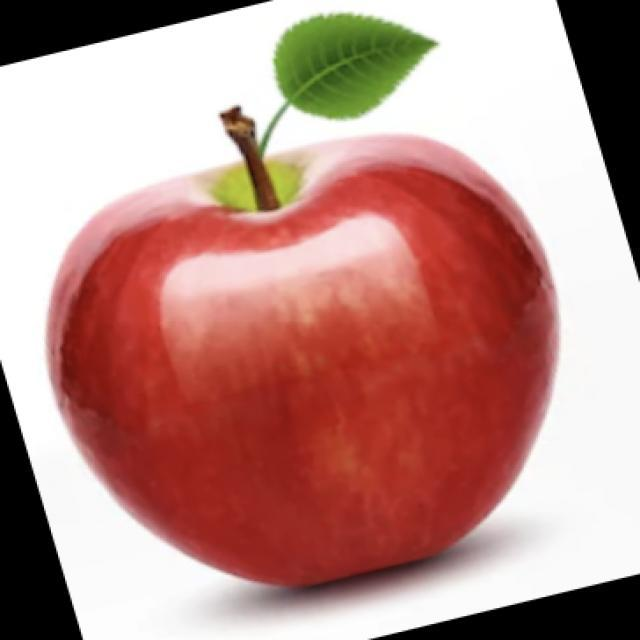Fresh Apple: (53, 142, 552, 566)
